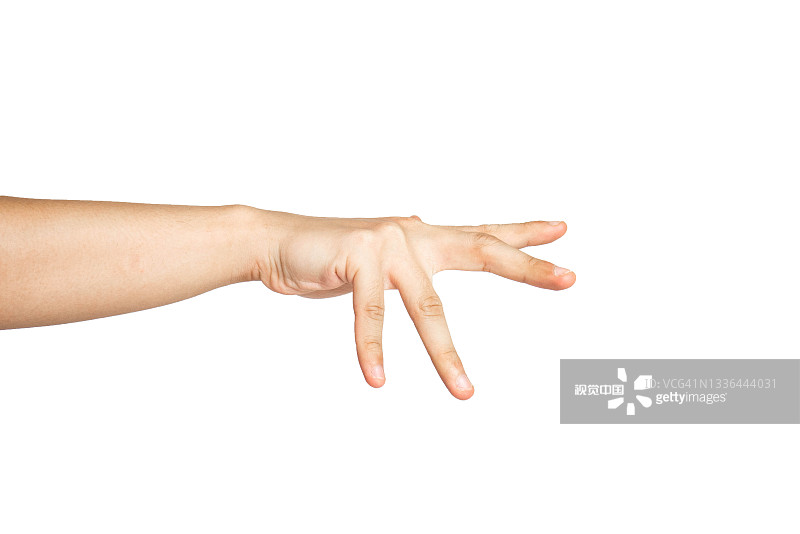no-phone: (209, 161, 607, 408)
